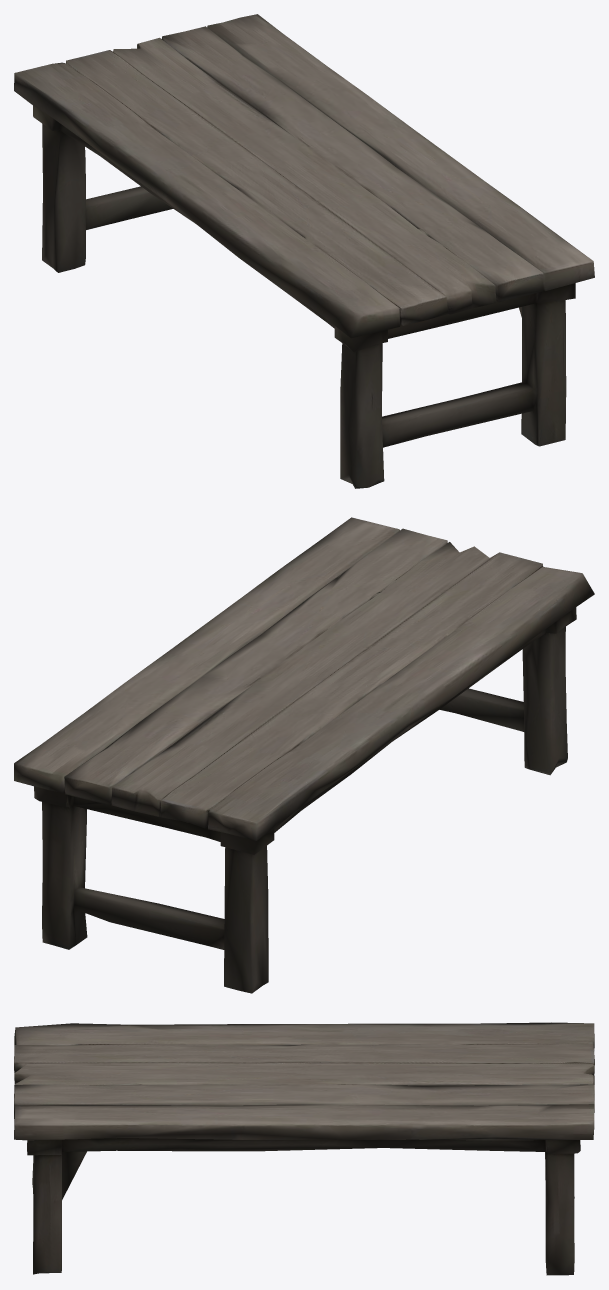
File: wooden_table_long.glb
The picture shows the model from 3 angles, top to bottom: view 1: azimuth 30°, elevation 25°; view 2: azimuth 150°, elevation 25°; view 3: azimuth 270°, elevation 25°; orthographic projection. The views are drawn at different scales.
Parts seen in each view (by area): view 1: tripo_node_2c0c4ef0-53d9-43f0-8fd9-550710ab5014; view 2: tripo_node_2c0c4ef0-53d9-43f0-8fd9-550710ab5014; view 3: tripo_node_2c0c4ef0-53d9-43f0-8fd9-550710ab5014.
Boxes of the visible parts, x1,y1,x2,y2 form: tripo_node_2c0c4ef0-53d9-43f0-8fd9-550710ab5014: [14, 14, 594, 488]; tripo_node_2c0c4ef0-53d9-43f0-8fd9-550710ab5014: [14, 517, 594, 993]; tripo_node_2c0c4ef0-53d9-43f0-8fd9-550710ab5014: [14, 1022, 594, 1275].
Bounding box in the file's own units: 0.4179 × 0.3022 × 1.
Materials: 1 (1 with a texture image).
